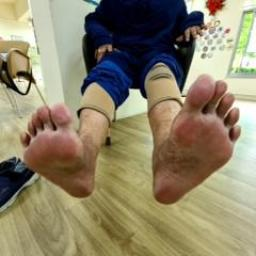Plantar View -Both Feet-: (10, 65, 250, 210)
